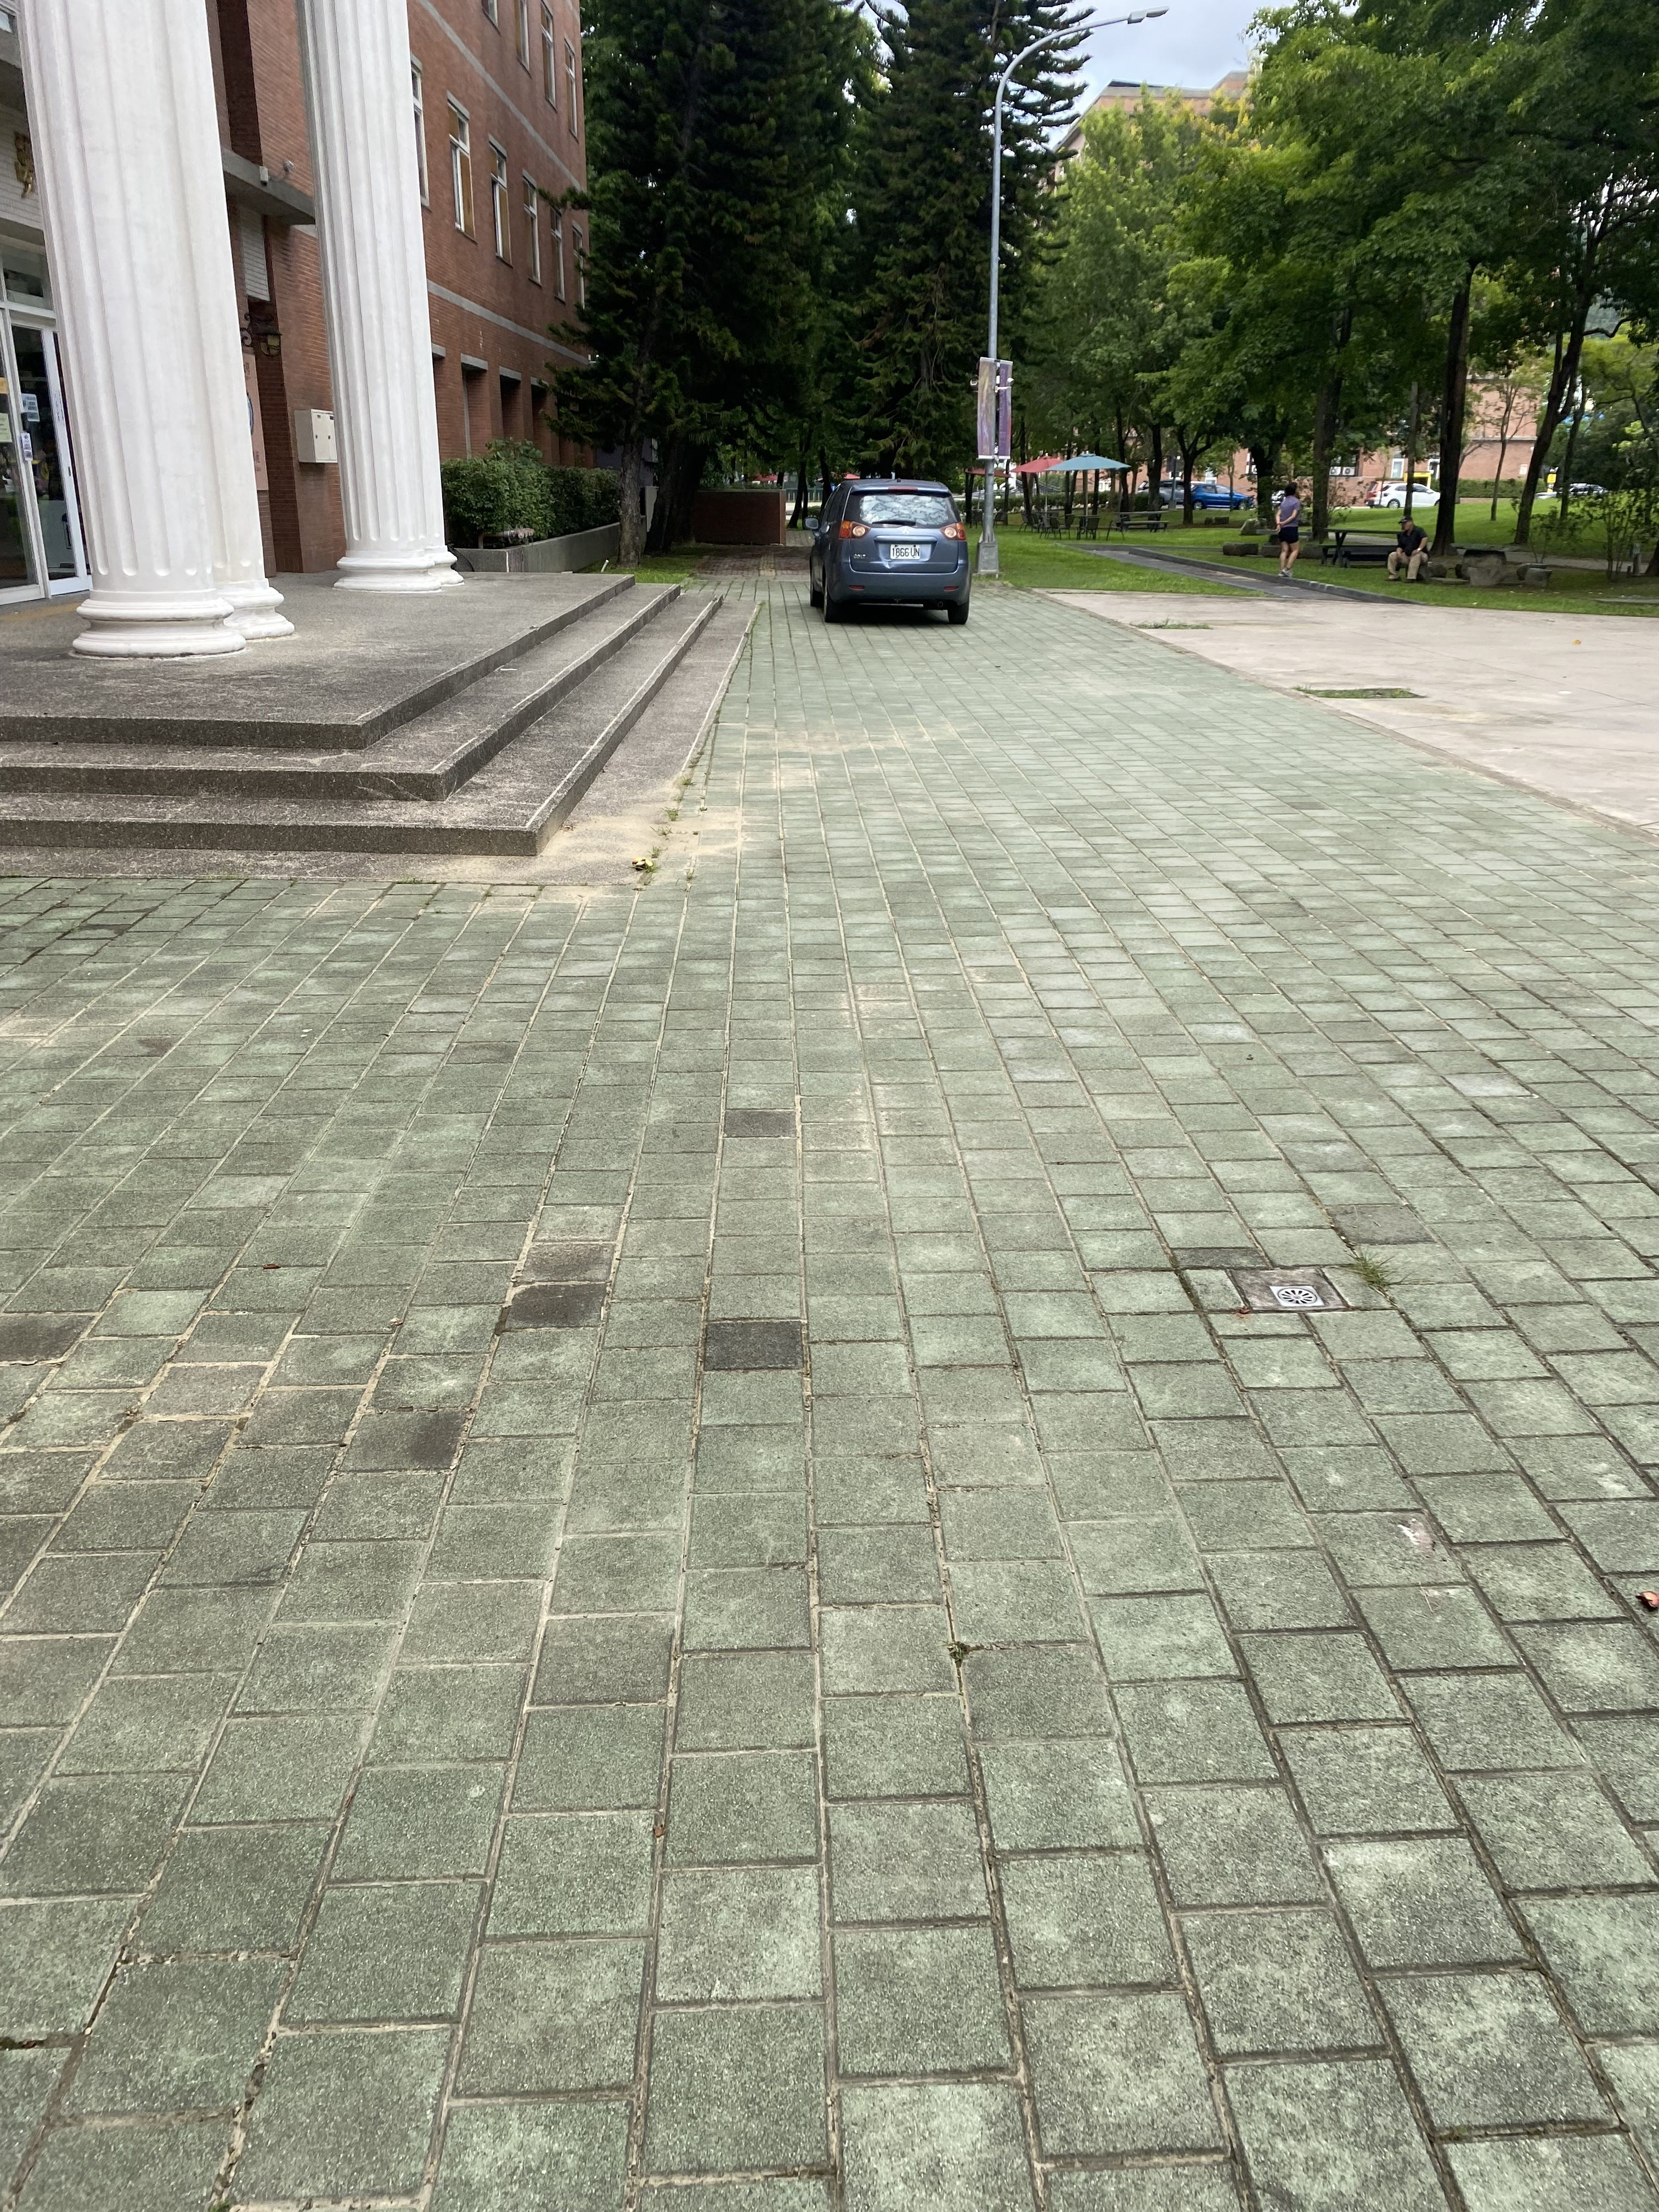sidewalk: (3, 554, 1659, 2212)
